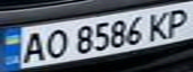5: (90, 19, 112, 52)
6: (124, 13, 151, 46)
8: (72, 22, 96, 55), (109, 17, 130, 48)
A: (15, 28, 51, 64)
K: (142, 8, 175, 42)
O: (39, 26, 69, 60)
P: (160, 4, 193, 37)
